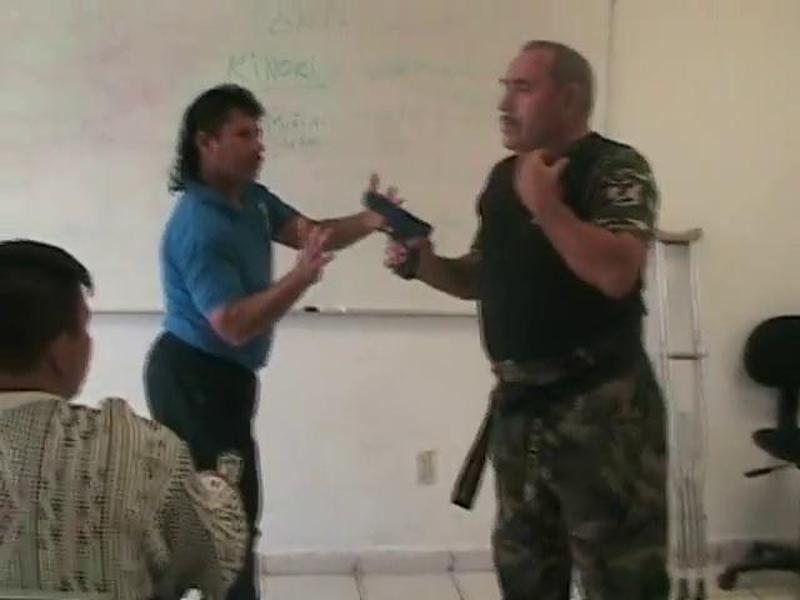Pistola: (349, 184, 432, 287)
